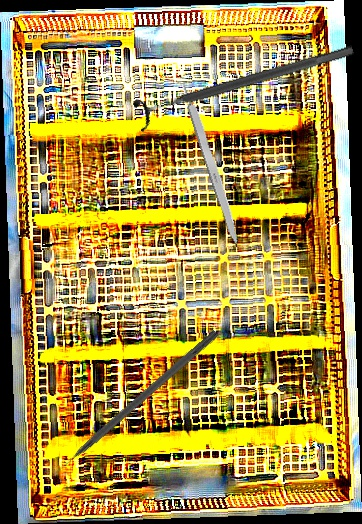Fixation Ring: (131, 33, 359, 134)
Hook Surgical: (47, 328, 220, 481)
Scalpel Handle: (179, 81, 245, 249)
